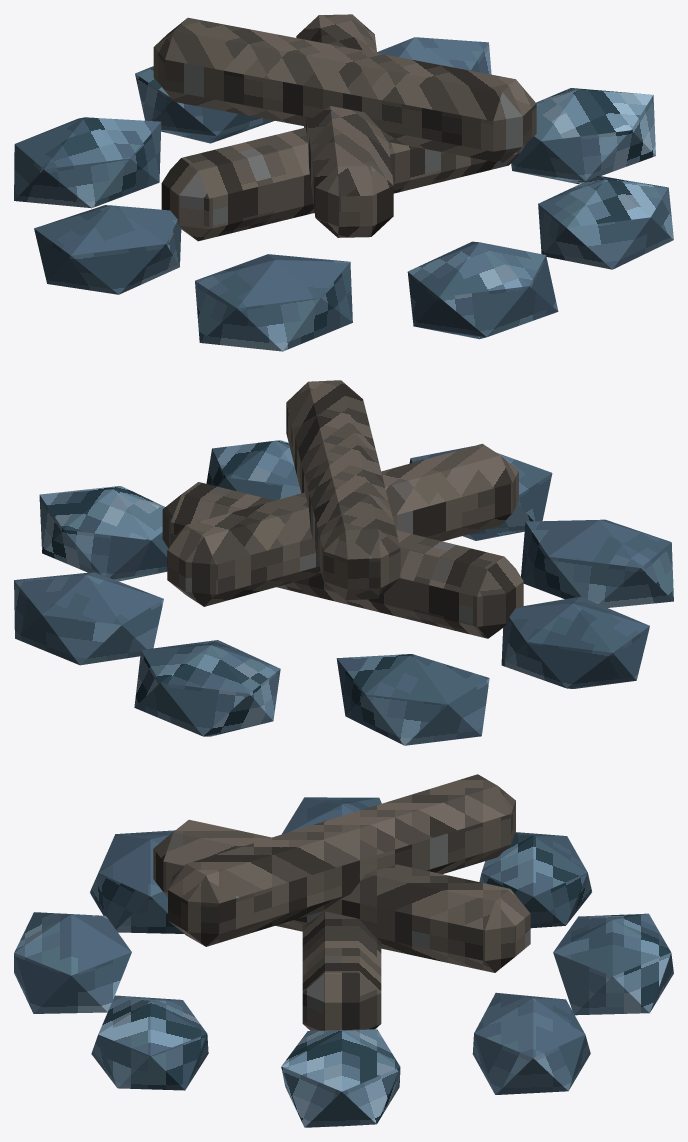
Rendered from enfeite_fogueira.glb.
The picture shows the model from 3 angles, top to bottom: view 1: azimuth 30°, elevation 25°; view 2: azimuth 150°, elevation 25°; view 3: azimuth 270°, elevation 25°; orthographic projection. The views are drawn at different scales.
Parts seen in each view (by area): view 1: neve_enfeite_fogueira; view 2: neve_enfeite_fogueira; view 3: neve_enfeite_fogueira.
Part boxes in pixels (x1,y1,x2,y2): neve_enfeite_fogueira: [14, 14, 673, 351]; neve_enfeite_fogueira: [14, 380, 673, 745]; neve_enfeite_fogueira: [14, 774, 673, 1127].
Size of the model in its own units: 0.624 by 0.1841 by 0.5853.
Materials: 2 (2 with a texture image).
